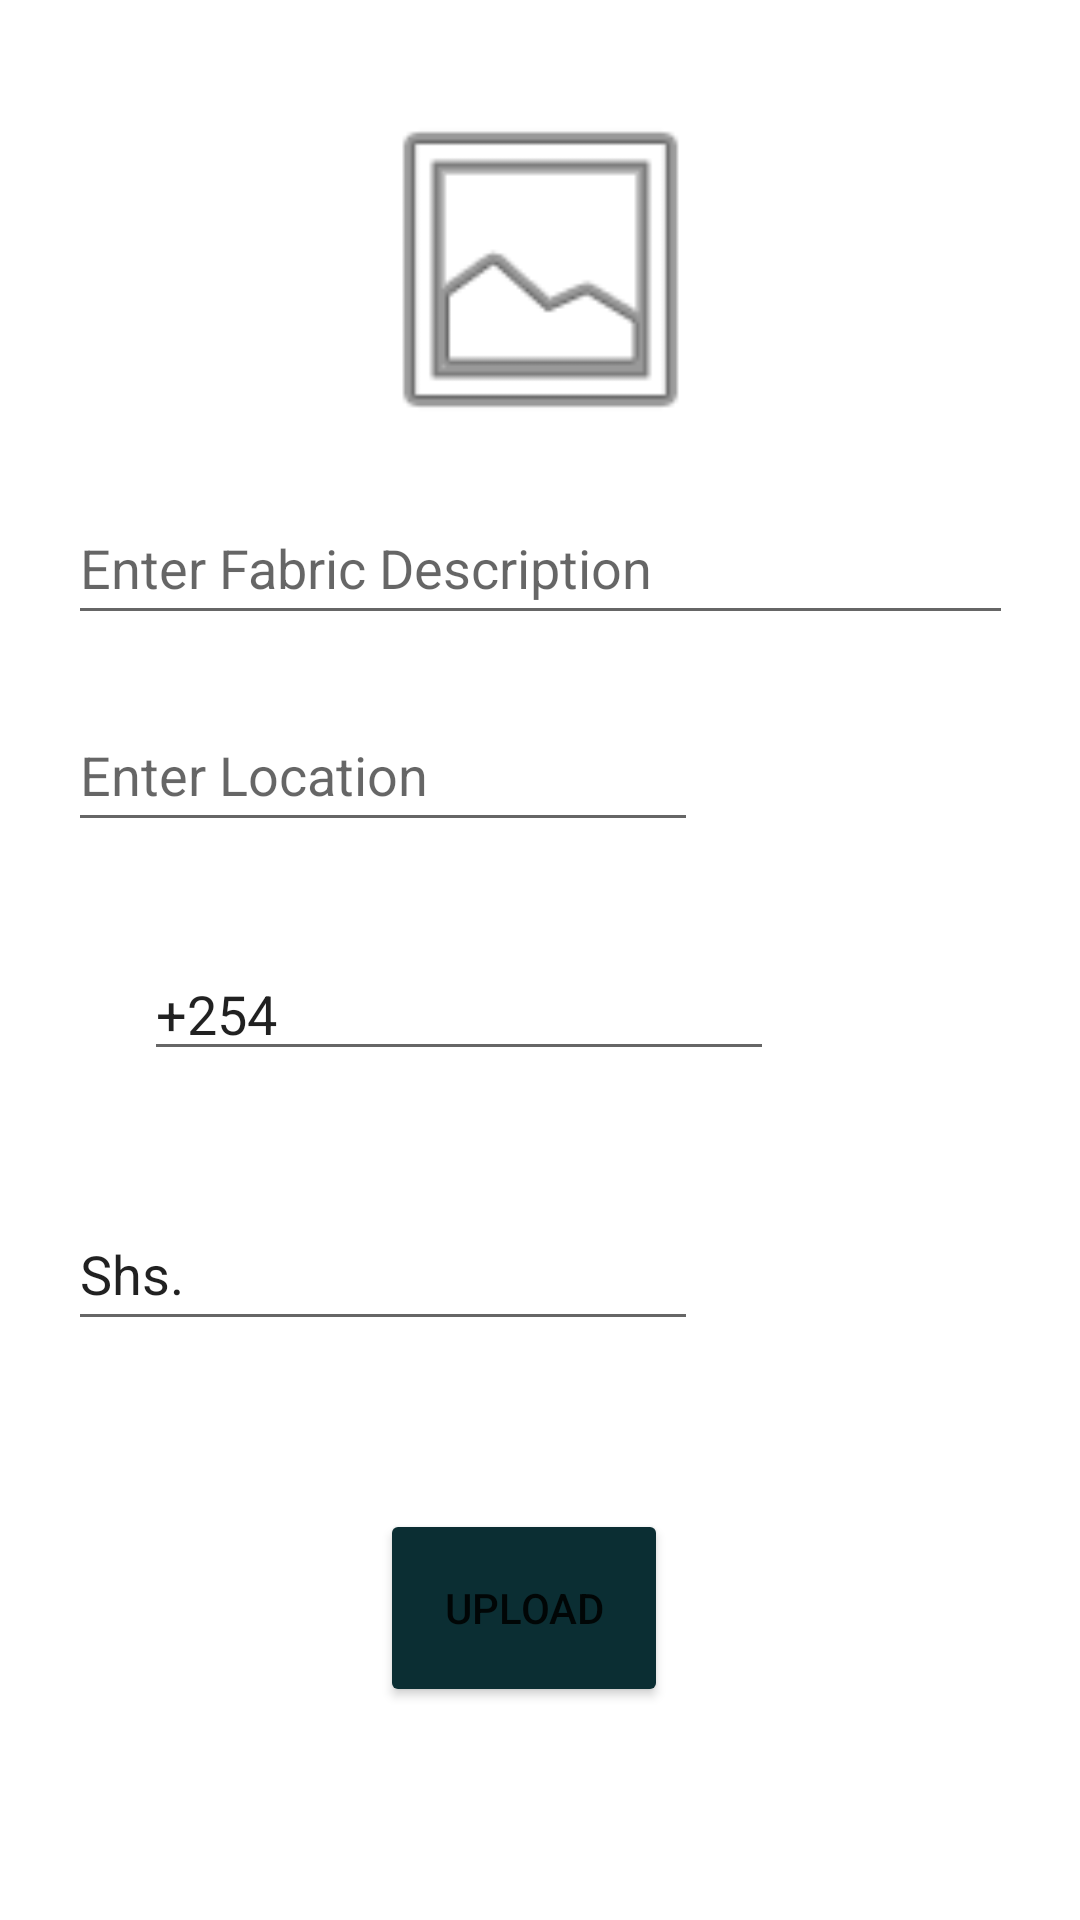

Named icons in this screenshot (1080*1920) and their bounding boxes, rect(x1, y1, x2, y2):
gallery: rect(403, 131, 678, 408)
